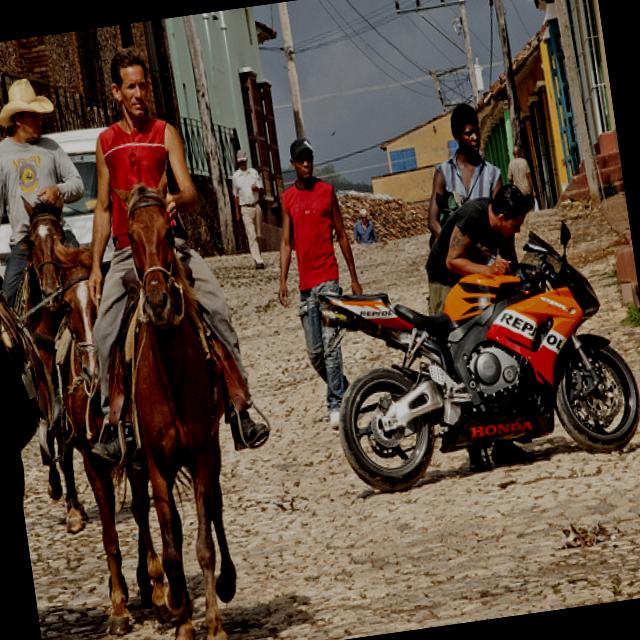Vehicle: (302, 212, 640, 505), (44, 125, 124, 248)
